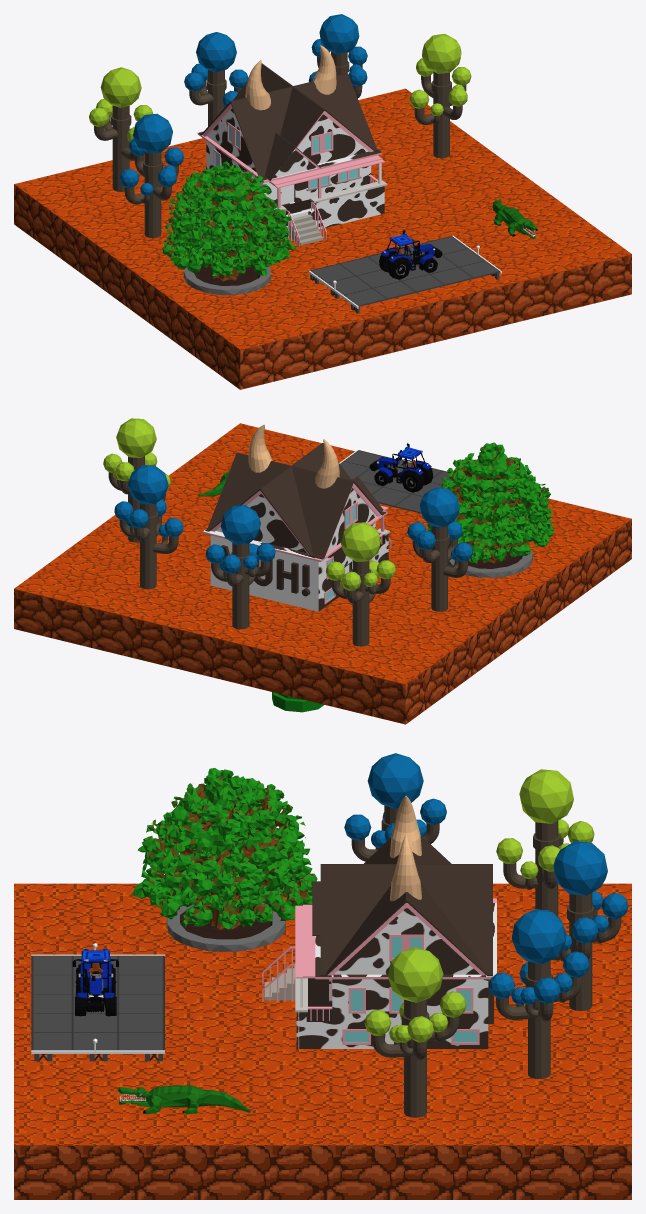
3 renders of one model, top to bottom at view 1: azimuth 30°, elevation 25°; view 2: azimuth 150°, elevation 25°; view 3: azimuth 270°, elevation 25°, orthographic. The views are drawn at different scales.
Parts seen in each view (by area): view 1: Cube.001, Cube.1242, OBJRANDOM_CEIBA, VEHICLES_TRACTOR, ANIMAL_COCODRILO; view 2: Cube.001, Cube.1242, OBJRANDOM_CEIBA, VEHICLES_TRACTOR, UNDERGROUND_PIPES; view 3: Cube.001, Cube.1242, OBJRANDOM_CEIBA, VEHICLES_TRACTOR, ANIMAL_COCODRILO.
Part boxes in pixels (bbox=[...]): Cube.001: bbox=[14, 14, 631, 389]; Cube.1242: bbox=[197, 45, 387, 246]; OBJRANDOM_CEIBA: bbox=[162, 161, 295, 295]; VEHICLES_TRACTOR: bbox=[379, 230, 442, 279]; ANIMAL_COCODRILO: bbox=[492, 198, 537, 239]; Cube.001: bbox=[14, 418, 631, 724]; Cube.1242: bbox=[202, 424, 391, 611]; OBJRANDOM_CEIBA: bbox=[427, 442, 553, 577]; VEHICLES_TRACTOR: bbox=[369, 443, 432, 492]; UNDERGROUND_PIPES: bbox=[272, 692, 324, 712]; Cube.001: bbox=[14, 753, 631, 1199]; Cube.1242: bbox=[262, 796, 496, 1048]; OBJRANDOM_CEIBA: bbox=[131, 768, 317, 951]; VEHICLES_TRACTOR: bbox=[72, 949, 118, 1016]; ANIMAL_COCODRILO: bbox=[117, 1085, 250, 1114].
Bounding box in the file's own units: 4000 × 2466 × 4000.
36 materials, 4 textured.
